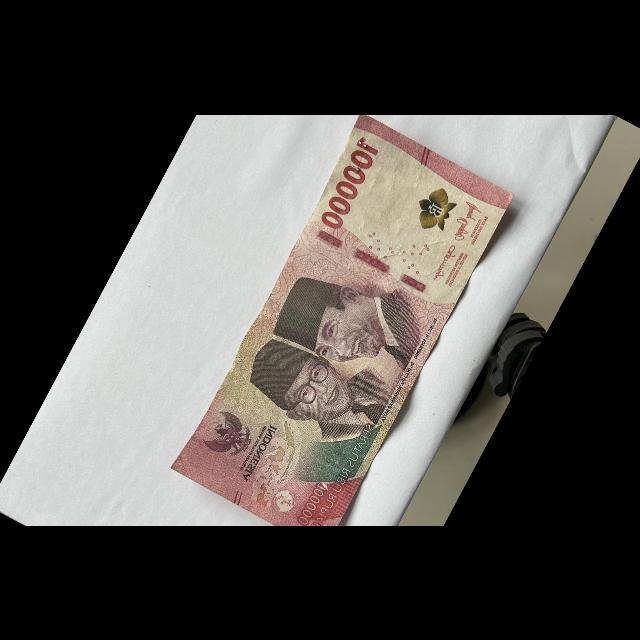Palsu-100k: (165, 108, 518, 553)
Tinta-Palsu-100k: (407, 179, 462, 238)
